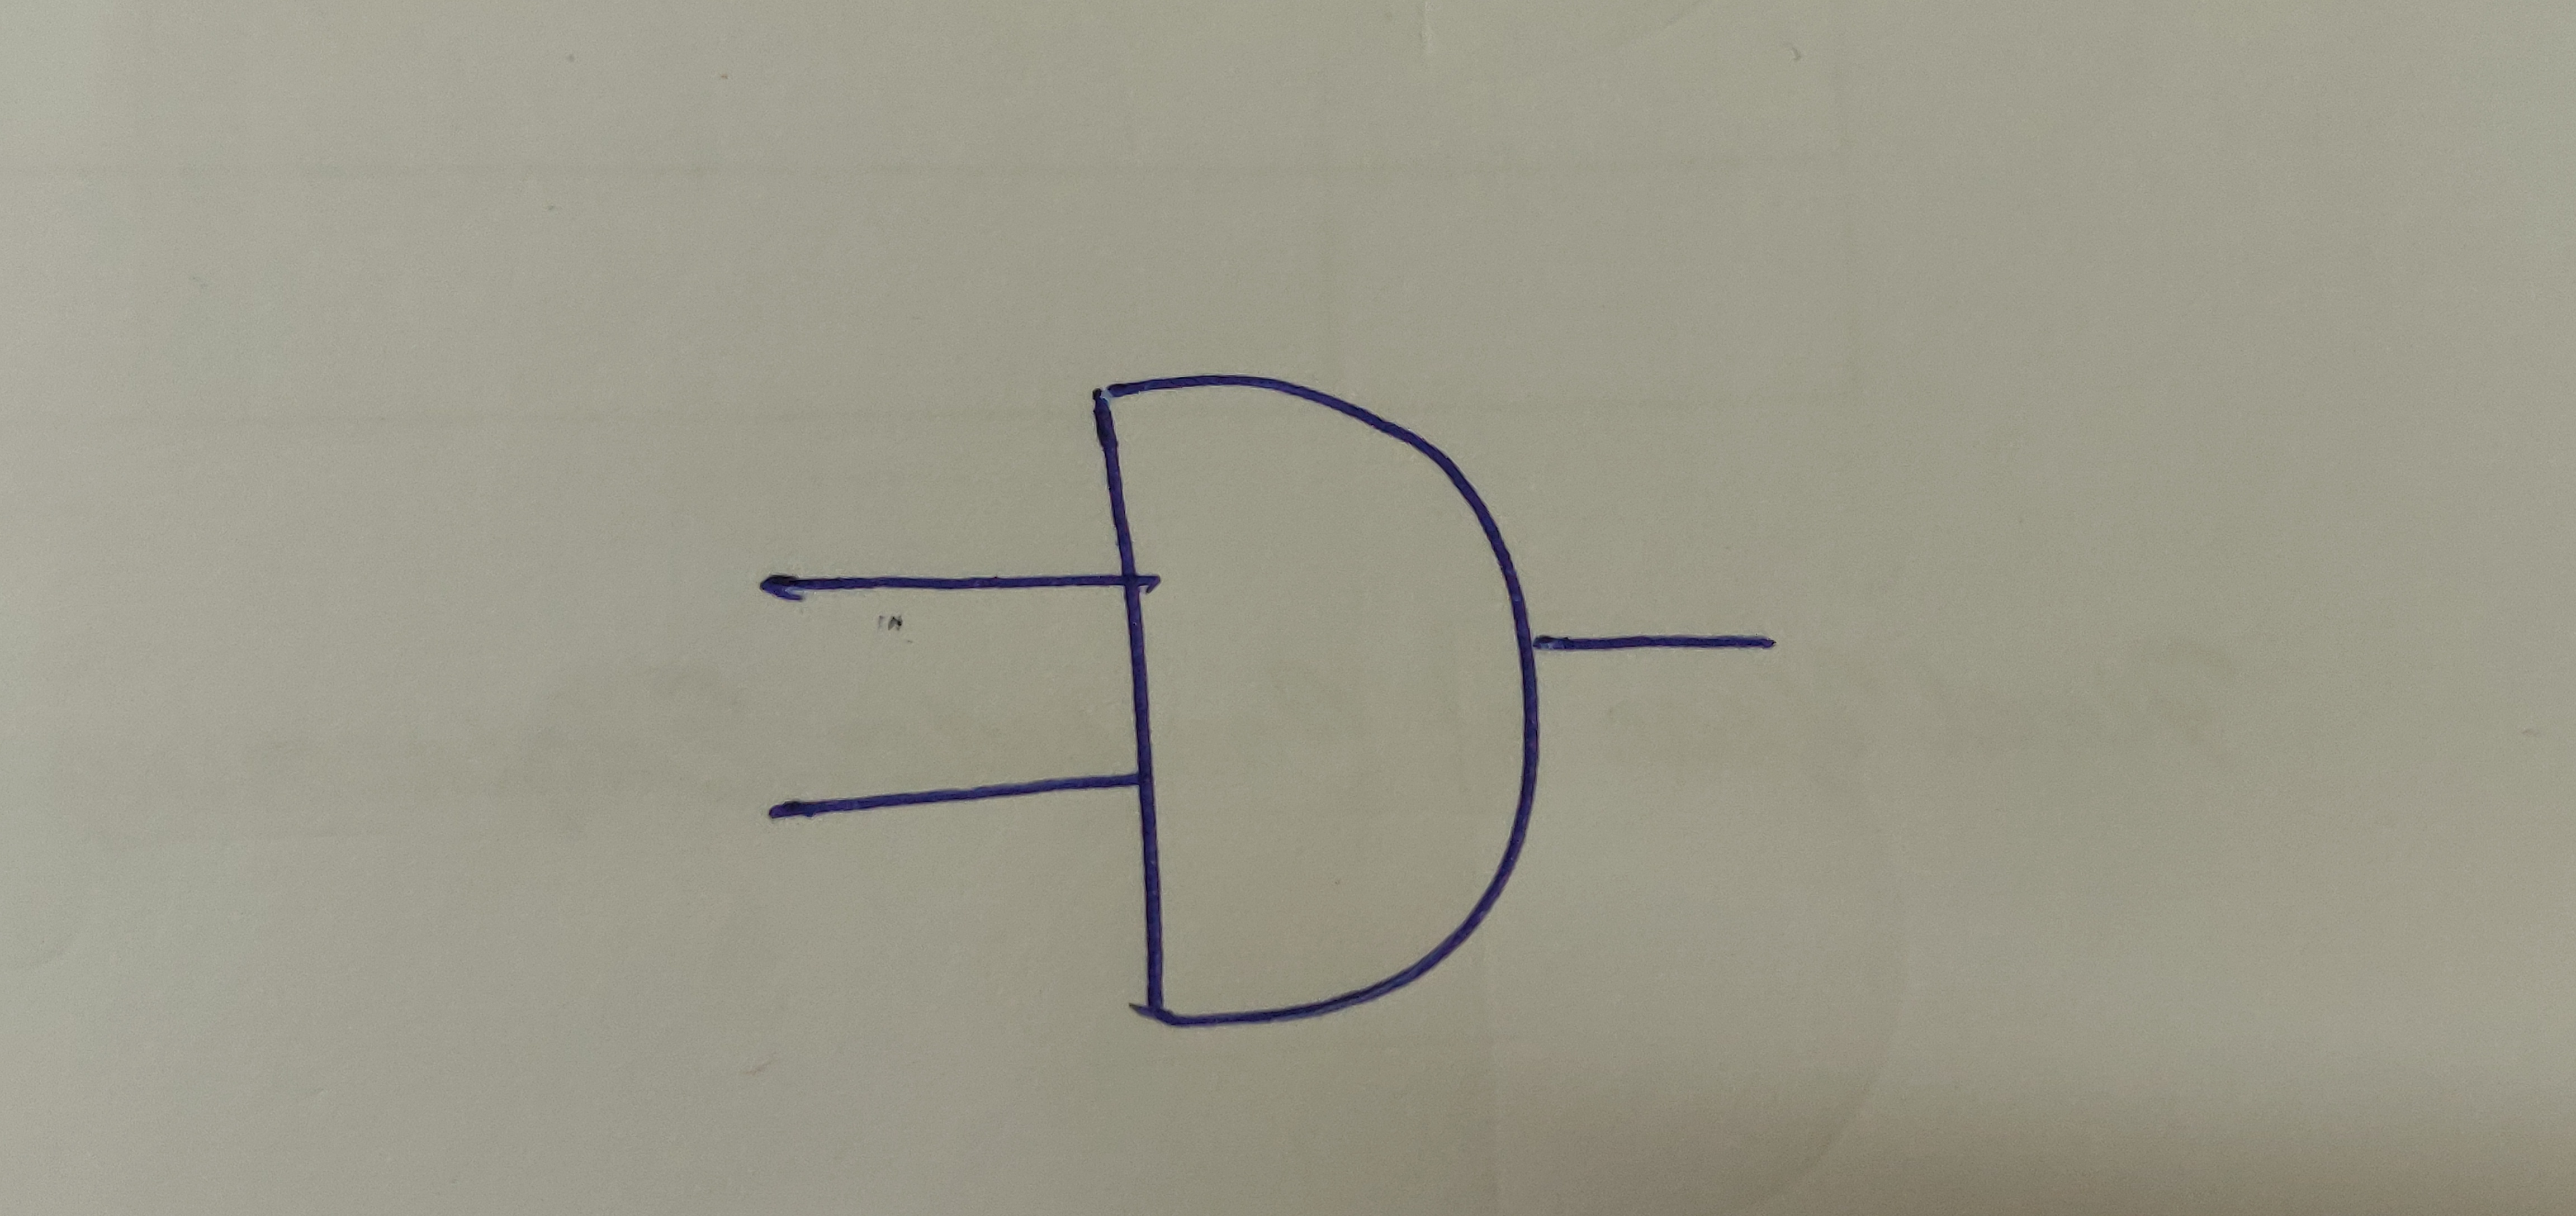and: (1081, 376, 1548, 1032)
